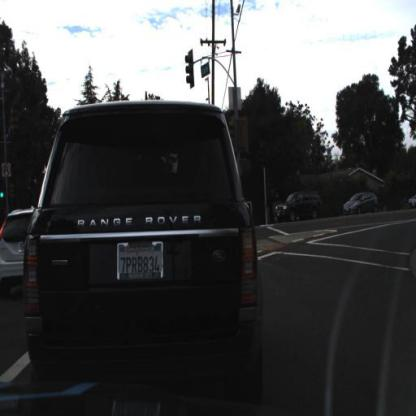car: (24, 102, 262, 373), (2, 205, 58, 286), (275, 189, 324, 224), (343, 191, 382, 218), (408, 189, 416, 210)
trafficLight-Green: (2, 184, 7, 207)
